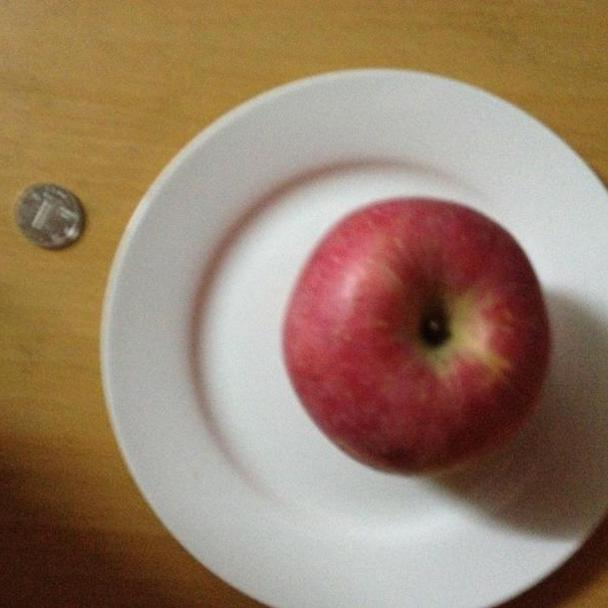apple: (279, 194, 551, 476)
